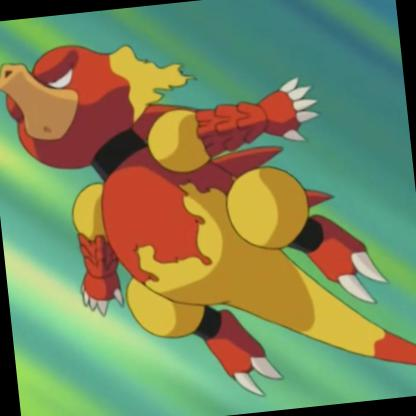Magmar: (17, 9, 384, 415)
